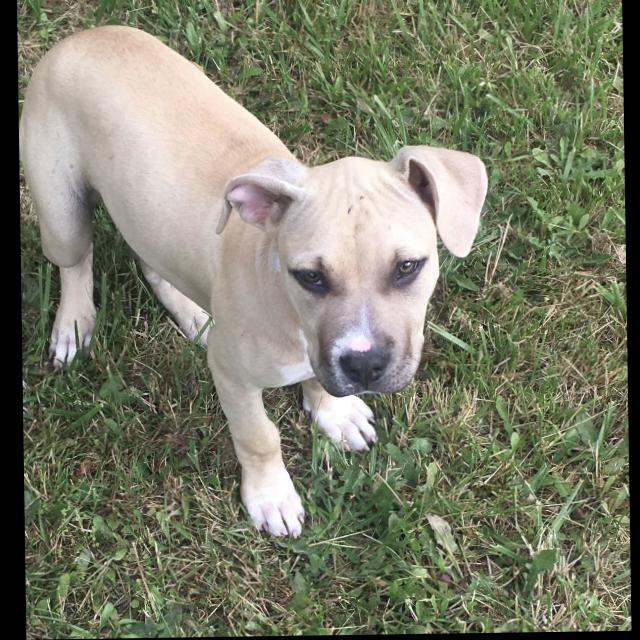am_pit_bull_terrier: (19, 20, 495, 544)
